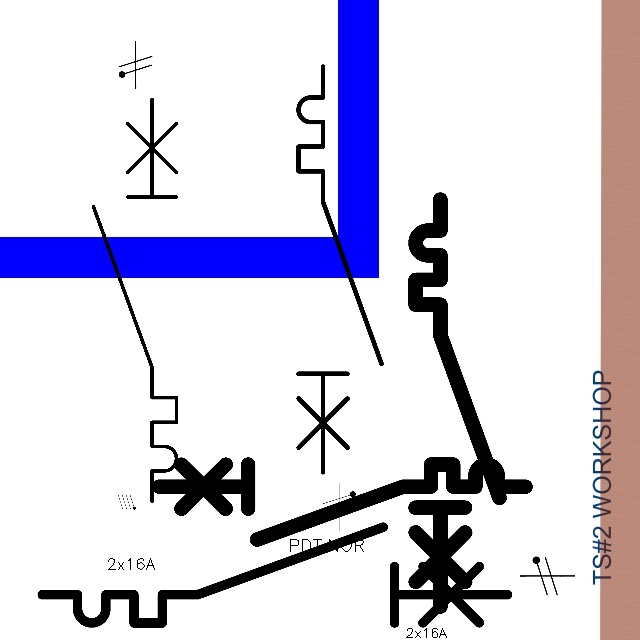interruptor_termomagnetico: (30, 515, 520, 635), (405, 189, 510, 617), (288, 56, 392, 483), (83, 88, 187, 512), (149, 455, 535, 549)
